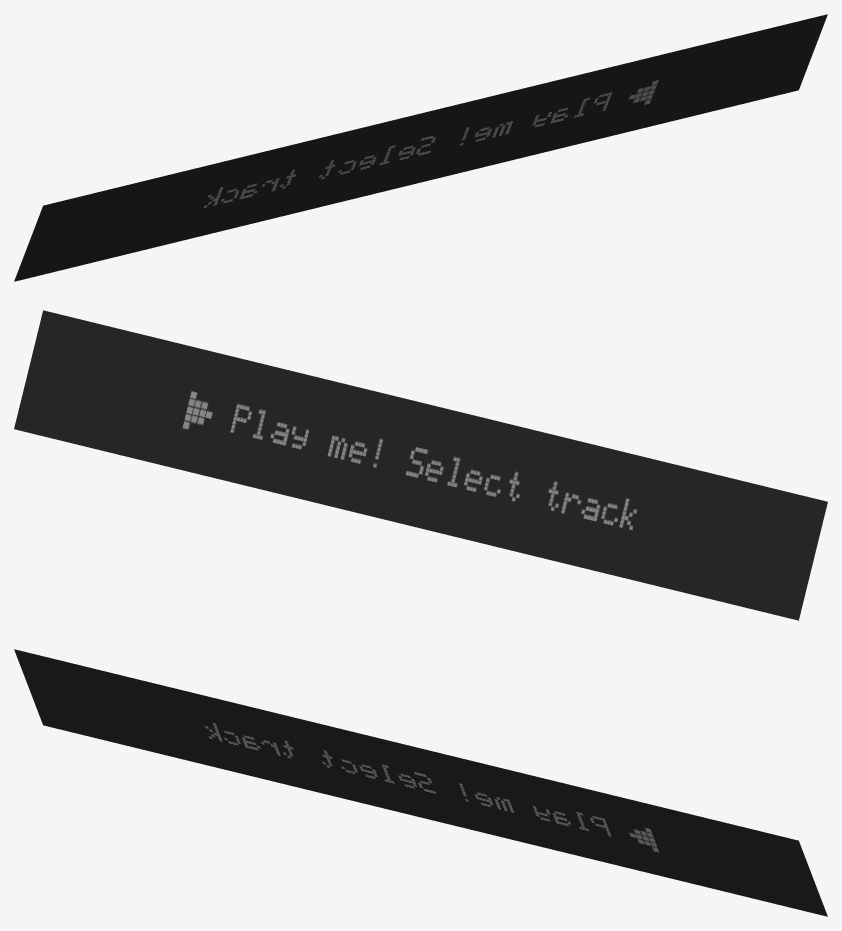
The model's file is Play_Me.glb.
3 views of the same model, one above another, from view 1: azimuth 30°, elevation 25°; view 2: azimuth 150°, elevation 25°; view 3: azimuth 330°, elevation 25° (orthographic).
Visible parts, largest first — view 1: Play_Me; view 2: Play_Me; view 3: Play_Me.
Part boxes in pixels (<box>): Play_Me: <box>14,14,827,281</box>; Play_Me: <box>14,310,827,620</box>; Play_Me: <box>14,649,827,916</box>.
Size of what is drawn, in the model's own units: 2.72 by 0.3233 by 0.1753.
1 material, 1 textured.
